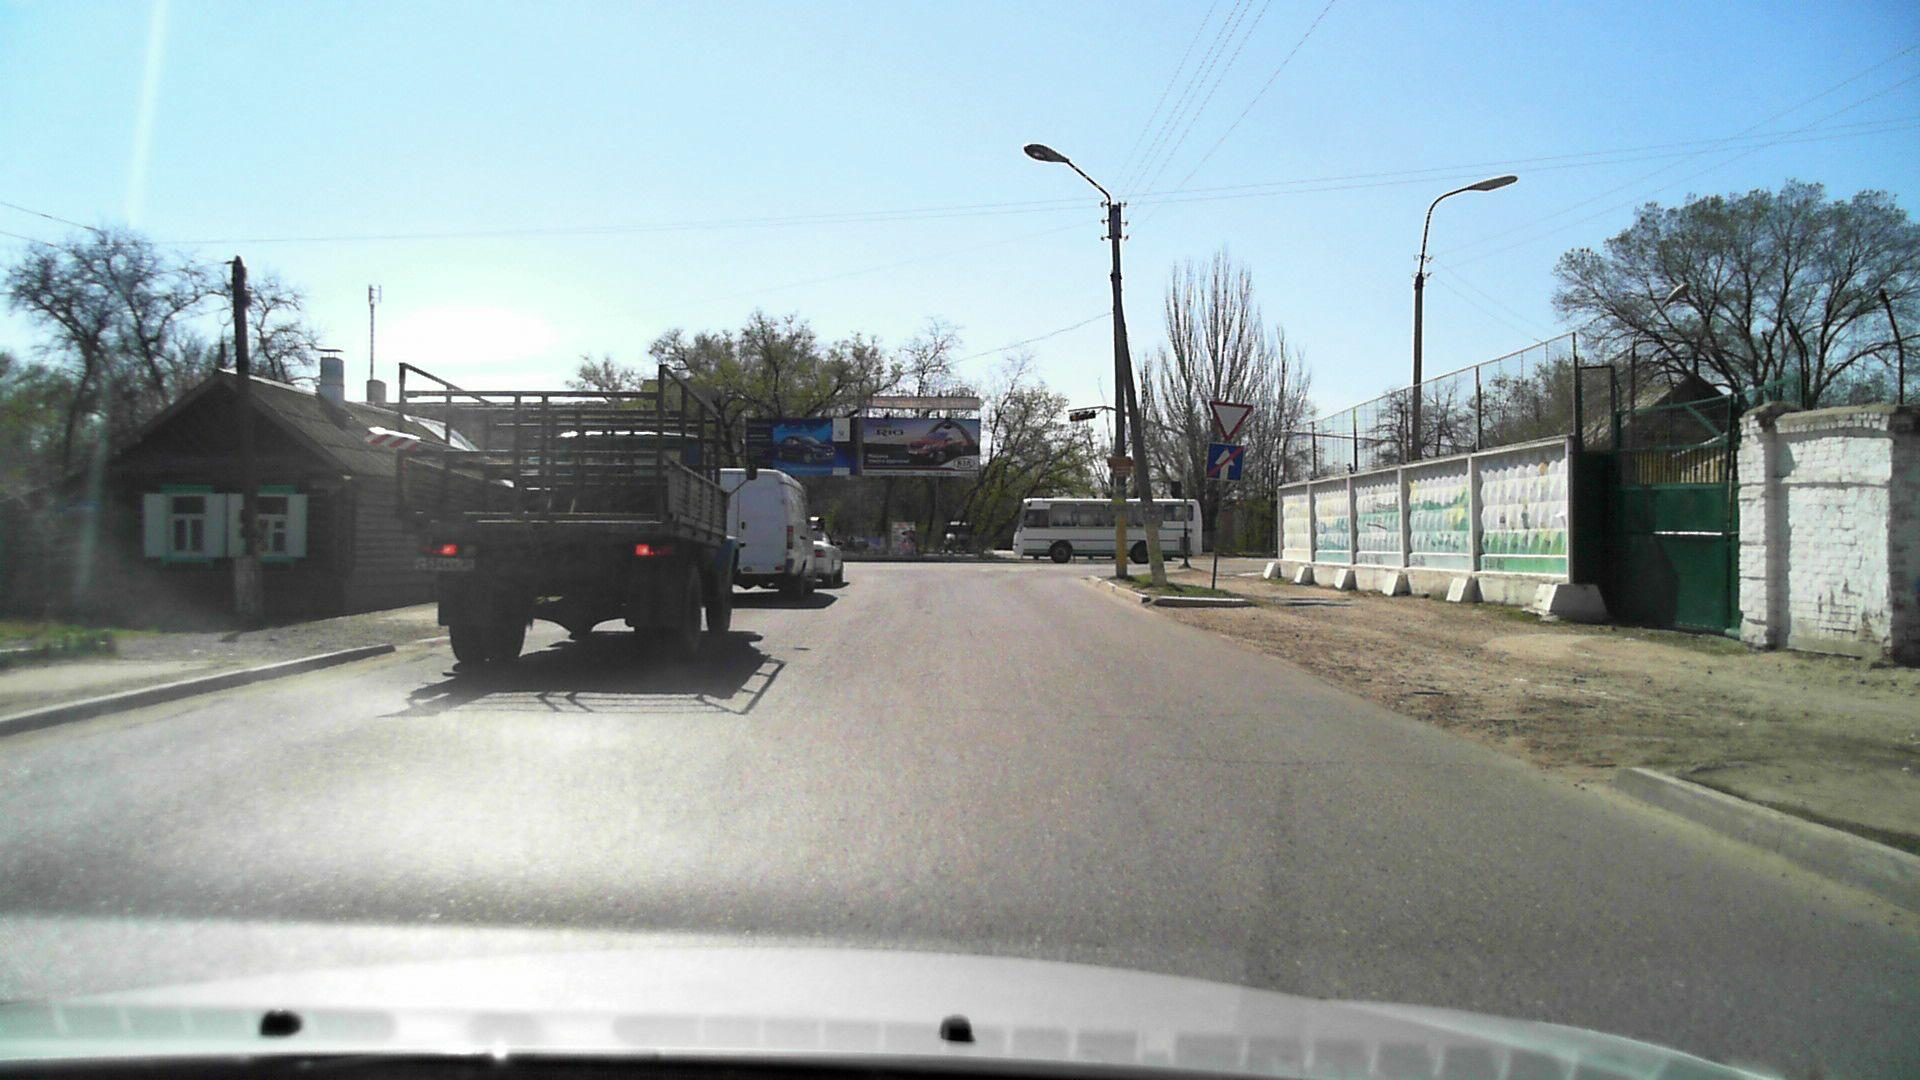2_4: (1208, 396, 1257, 442)
5_6: (1205, 443, 1247, 483)
